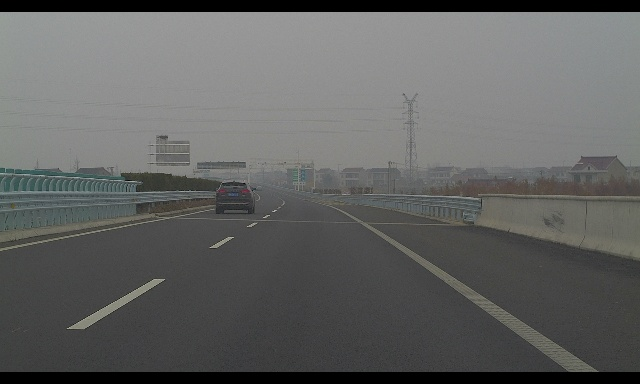car: (215, 179, 257, 214)
